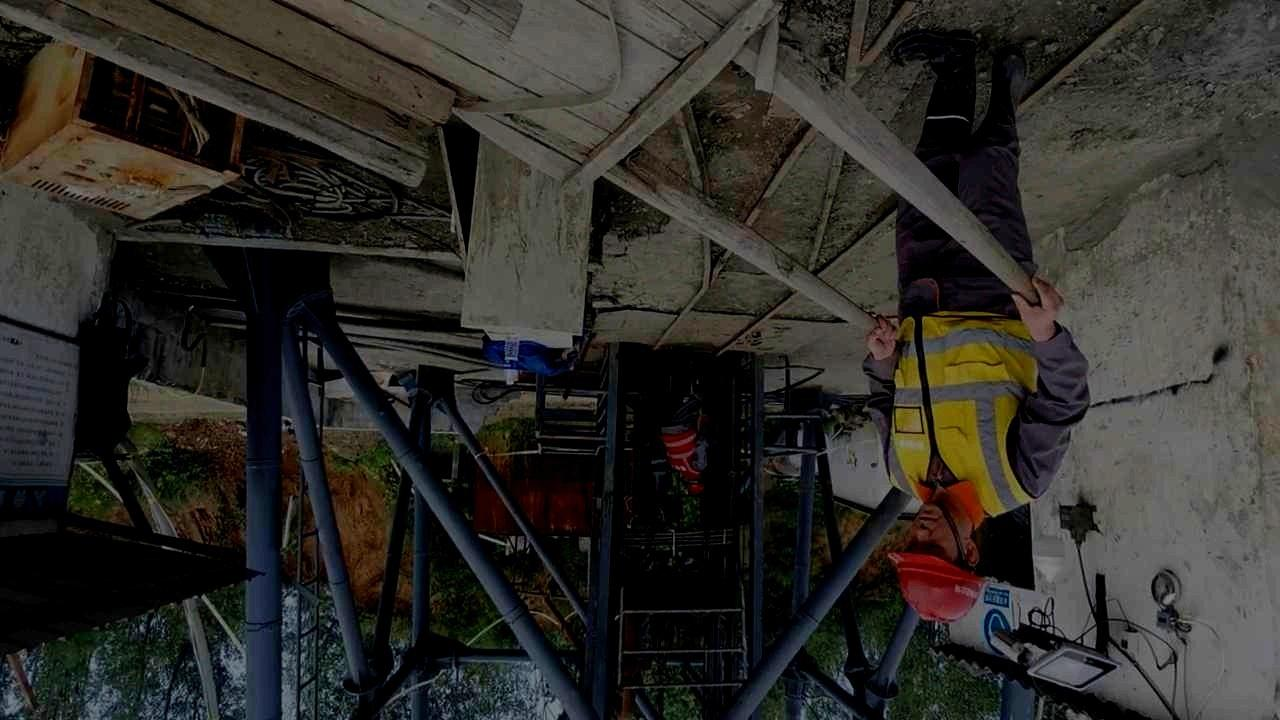helmet: (887, 502, 985, 624), (686, 480, 704, 497)
